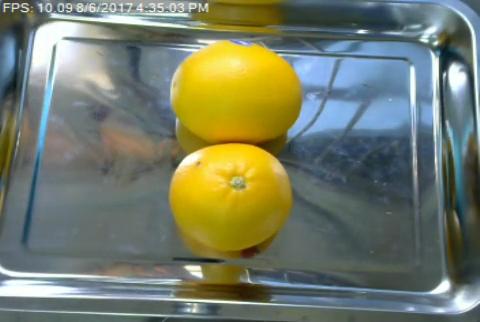Orange: (170, 39, 305, 142), (166, 143, 292, 249)
